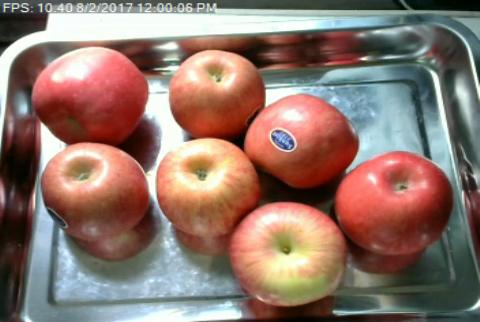apple: (336, 151, 456, 258), (230, 202, 345, 306), (32, 46, 149, 144), (243, 93, 360, 188), (41, 142, 150, 242), (157, 138, 260, 238), (169, 50, 263, 138)
